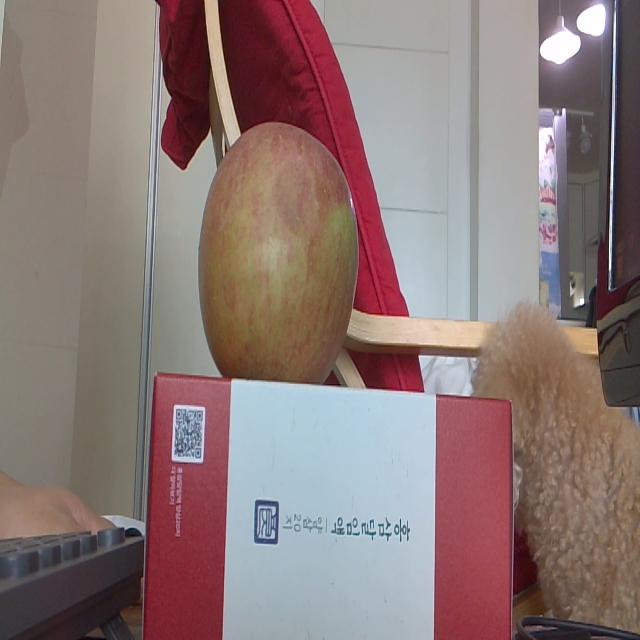apple: (197, 120, 361, 390)
